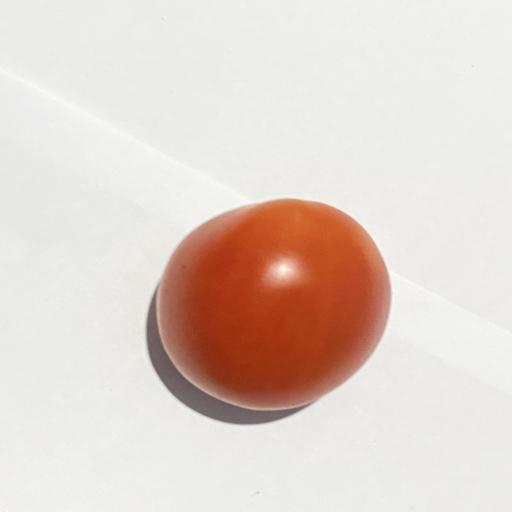ripe: (156, 199, 390, 410)
